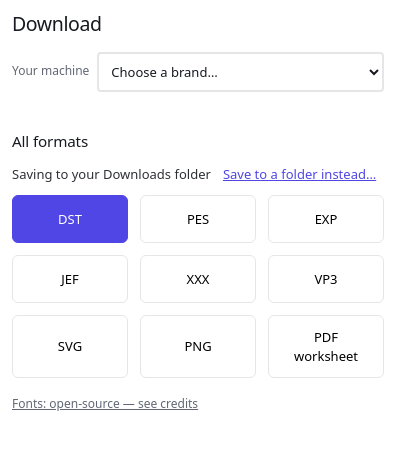
JEF downloads through the service on a LETTERING project too — the preferService split does not apply to it
Click the button with test id "jef-button" at (70, 279), box [12, 255, 128, 303]
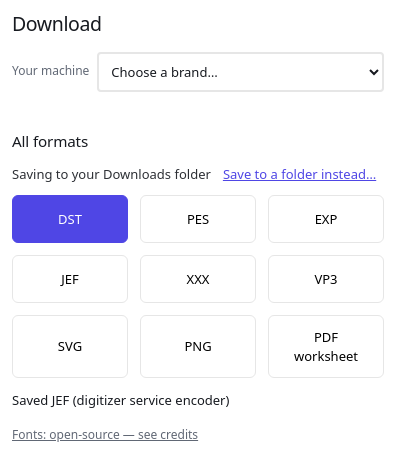
Check: the text "Saved JEF (digitizer service encoder)" is shown, box [12, 391, 229, 409]
